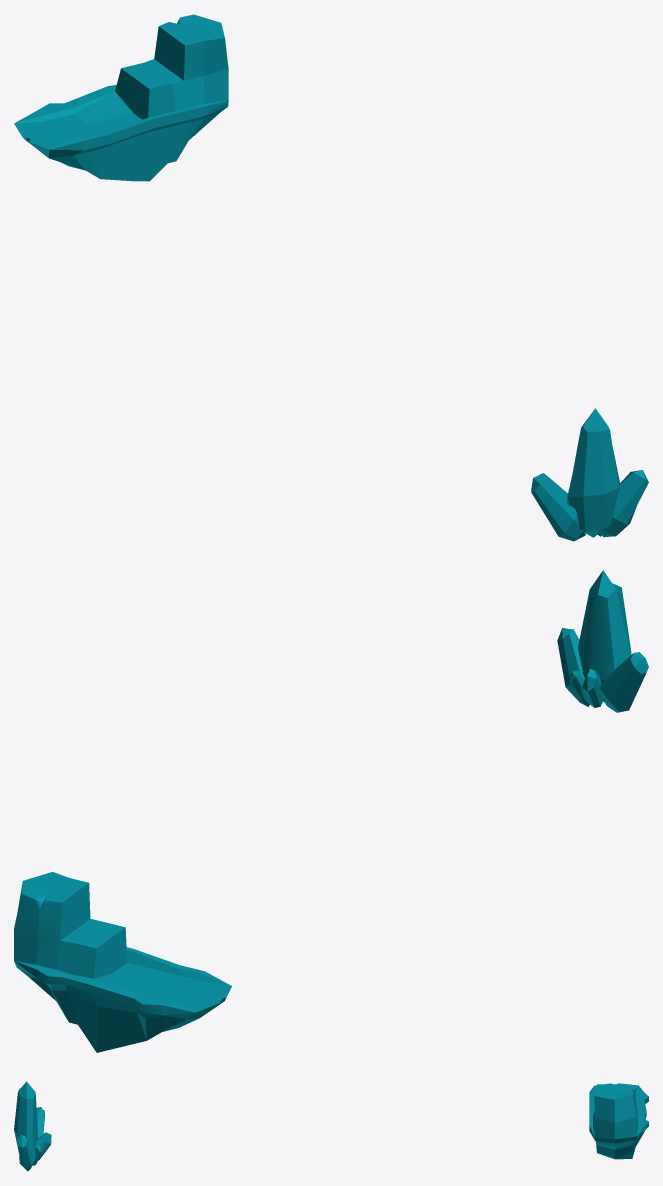
Rendered from Double_Step_NoC.fbx.
The picture shows the model from 3 angles, top to bottom: view 1: azimuth 30°, elevation 25°; view 2: azimuth 150°, elevation 25°; view 3: azimuth 270°, elevation 25°; orthographic projection. The views are drawn at different scales.
Visible parts, largest first — view 1: Medium_Platform_No_C, polySurface5; view 2: Medium_Platform_No_C, polySurface5; view 3: Medium_Platform_No_C, polySurface5.
Part boxes in pixels (box(x1,y1,x2,y2)): Medium_Platform_No_C: box(14, 14, 228, 181); polySurface5: box(531, 408, 648, 541); Medium_Platform_No_C: box(14, 872, 231, 1052); polySurface5: box(557, 570, 648, 712); Medium_Platform_No_C: box(589, 1083, 648, 1159); polySurface5: box(14, 1081, 51, 1171).
Bounding box in the file's own units: 3.49 × 2.52 × 15.23.
